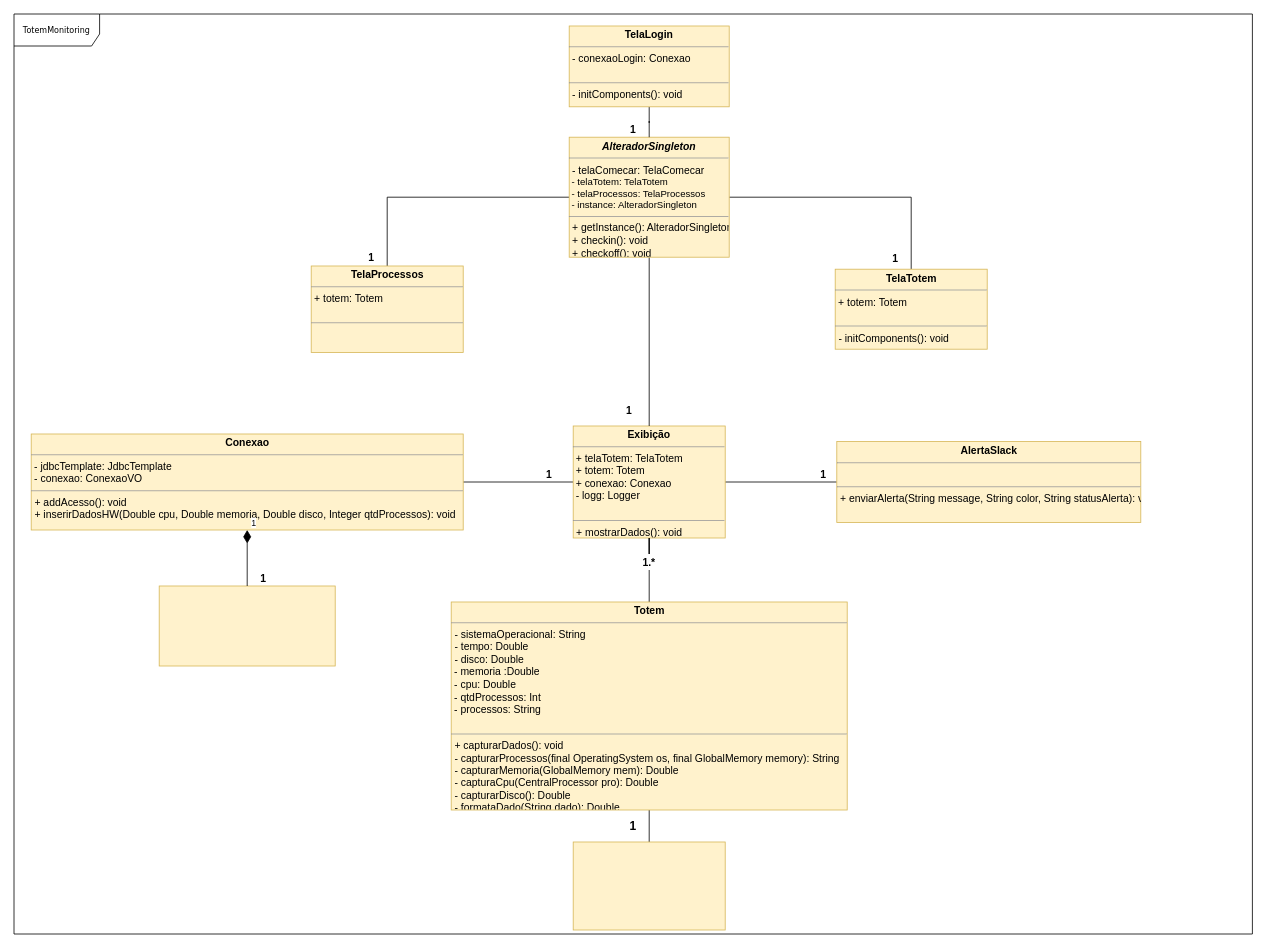
Some shapes in this 1266 by 948 pixel diagram are drawn without their labels. Each missing label, with the centre of its shape:
ConexaoVO - dataSource: BasicDataSource + criarConexao(): void: point 246,625
Refresh + refresh(): void: point 648,885
